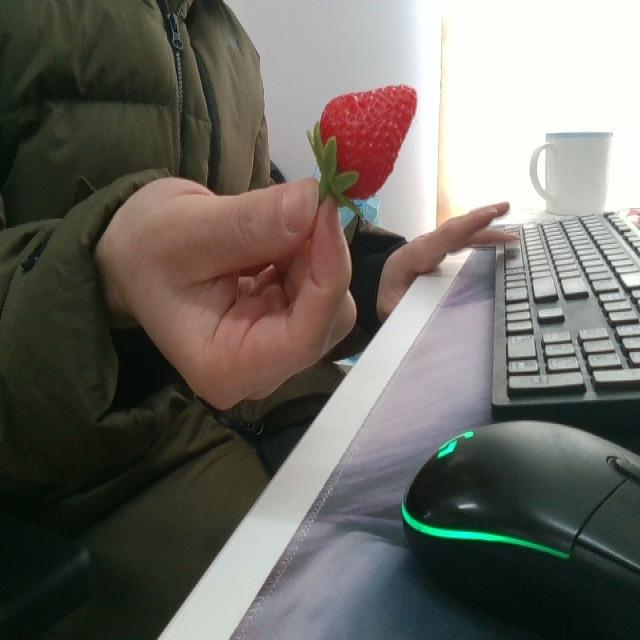mature: (320, 84, 417, 201)
